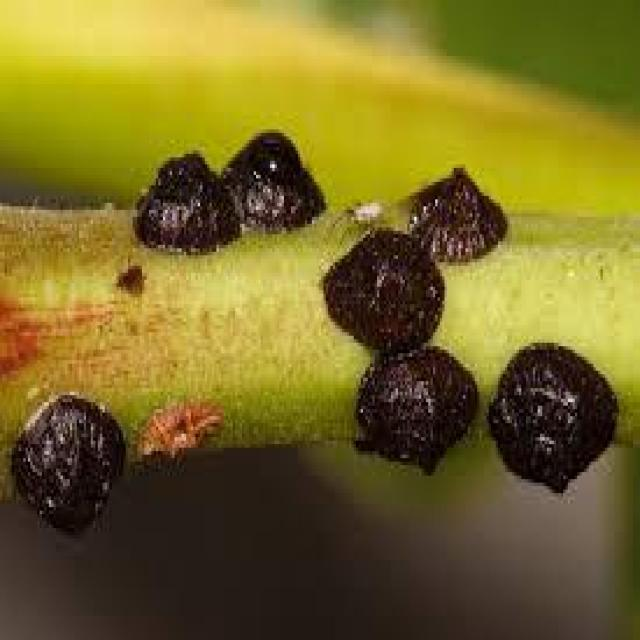Black Scale: (133, 129, 323, 252), (489, 343, 617, 496), (12, 392, 123, 549), (321, 227, 442, 357), (356, 346, 477, 472), (407, 168, 505, 259)
